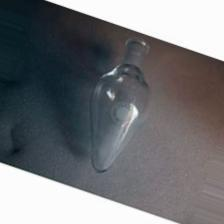Pear shaped flask: (84, 17, 148, 181)
